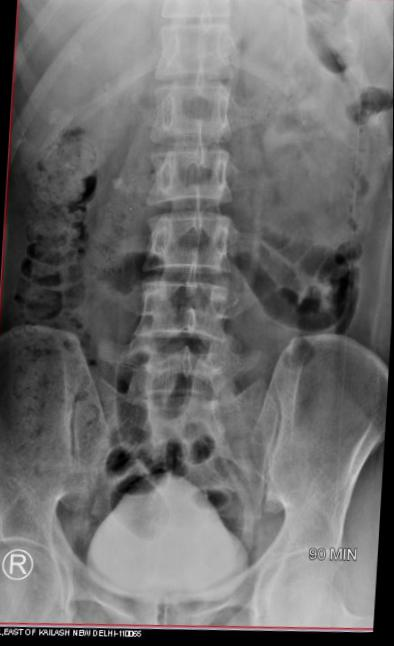bladder: (78, 460, 262, 610)
left kidney: (234, 10, 385, 215)
right kidney: (23, 26, 152, 212)
vertebrae: (149, 78, 241, 148)
